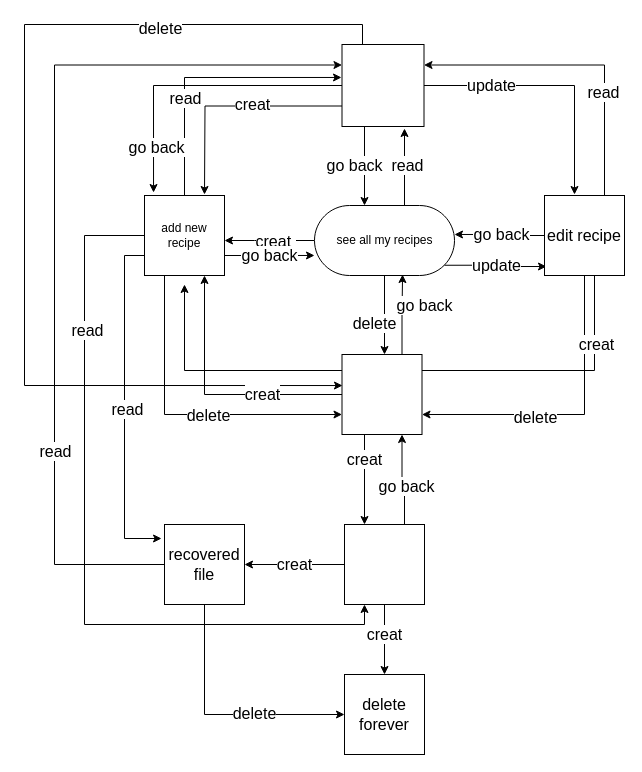
The diagram is 642 pixels wide and 772 high, and some of its shapes have lost their labels. The shapes that lost their labels are listed below. From the top down, each one's centre as x and y in pixels, then its label:
At point (382, 85): "view recipe".
At point (381, 394): "delete recipe".
At point (384, 564): "trashcan".
